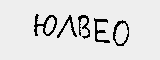В: (75, 13, 91, 39)
Е: (91, 17, 112, 45)
Л: (57, 13, 78, 40)
О: (112, 19, 130, 47)
Ю: (31, 12, 57, 38)
